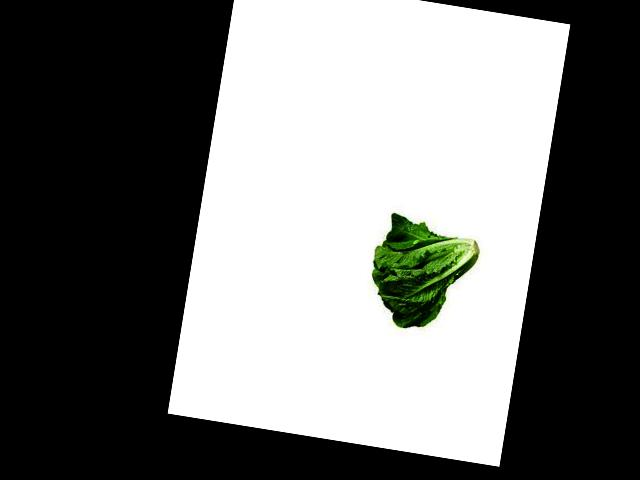lettuce: (364, 210, 485, 326)
